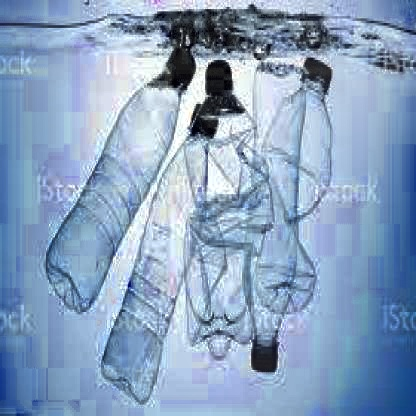pbottle: (46, 42, 193, 328), (95, 104, 220, 416), (269, 46, 336, 349), (242, 48, 299, 370), (195, 60, 252, 361)
